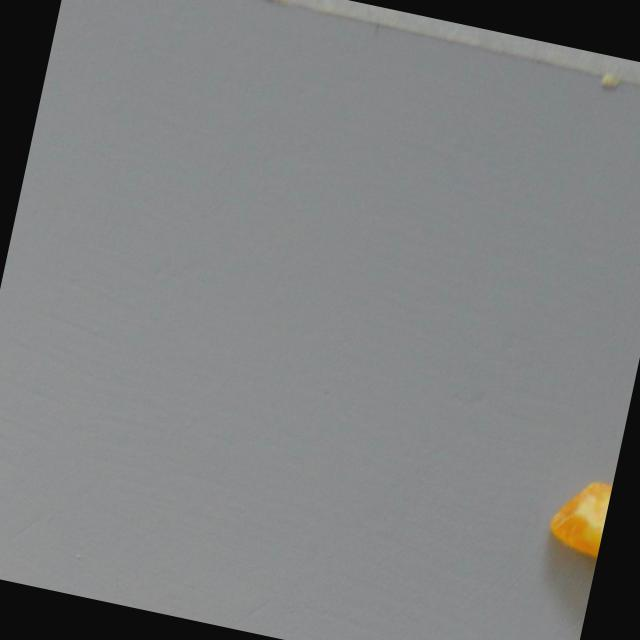pelicula: (541, 468, 613, 558)
